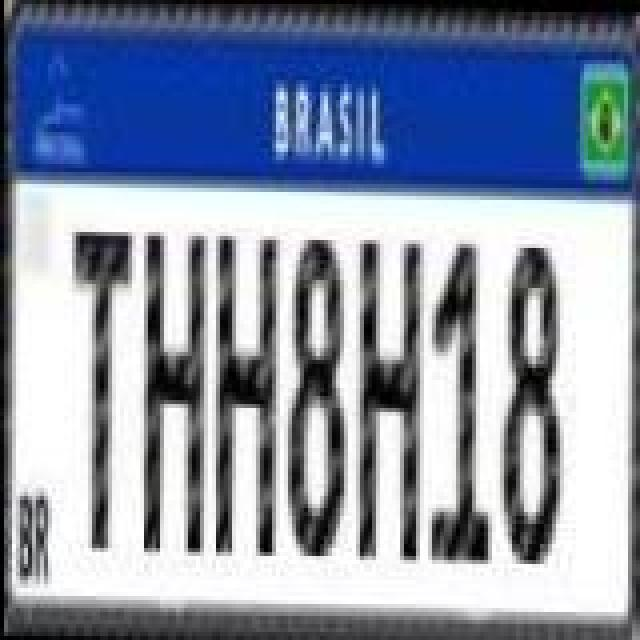1: (424, 238, 496, 562)
8: (282, 228, 350, 564), (494, 240, 562, 564)
H: (142, 230, 210, 554), (214, 230, 282, 554), (354, 236, 422, 560)
T: (68, 224, 132, 548)
